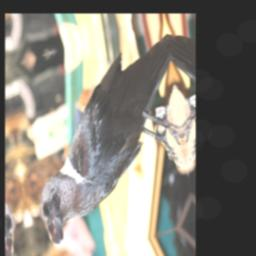Crow: (19, 33, 192, 253)
